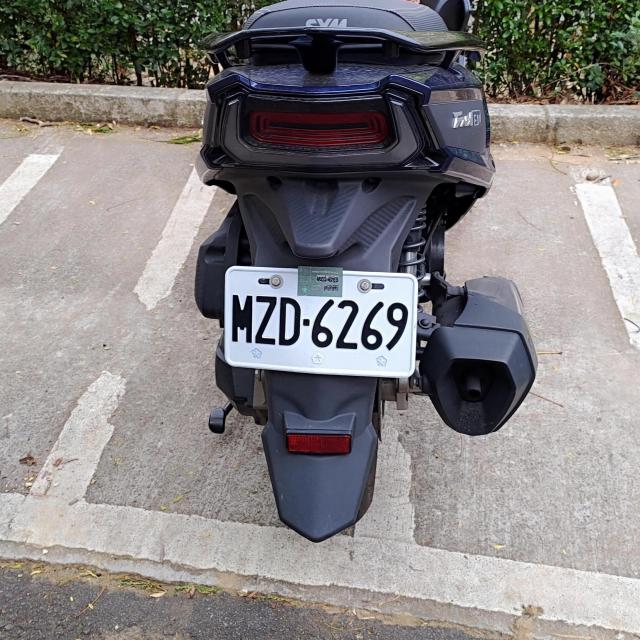W: (221, 266, 418, 376)
